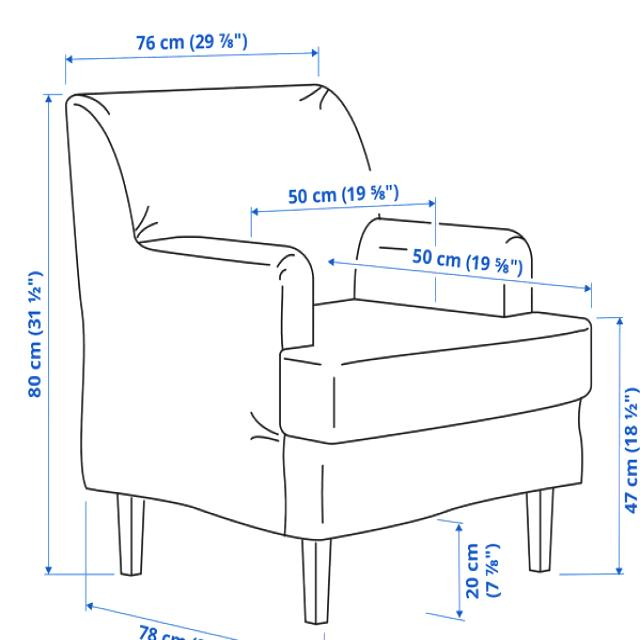Armrest: (75, 233, 317, 533), (351, 214, 539, 322)
Backrest: (63, 84, 384, 310)
Base: (278, 389, 592, 550)
Leg_Structure: (110, 480, 560, 630)
Seat: (273, 290, 597, 454)
